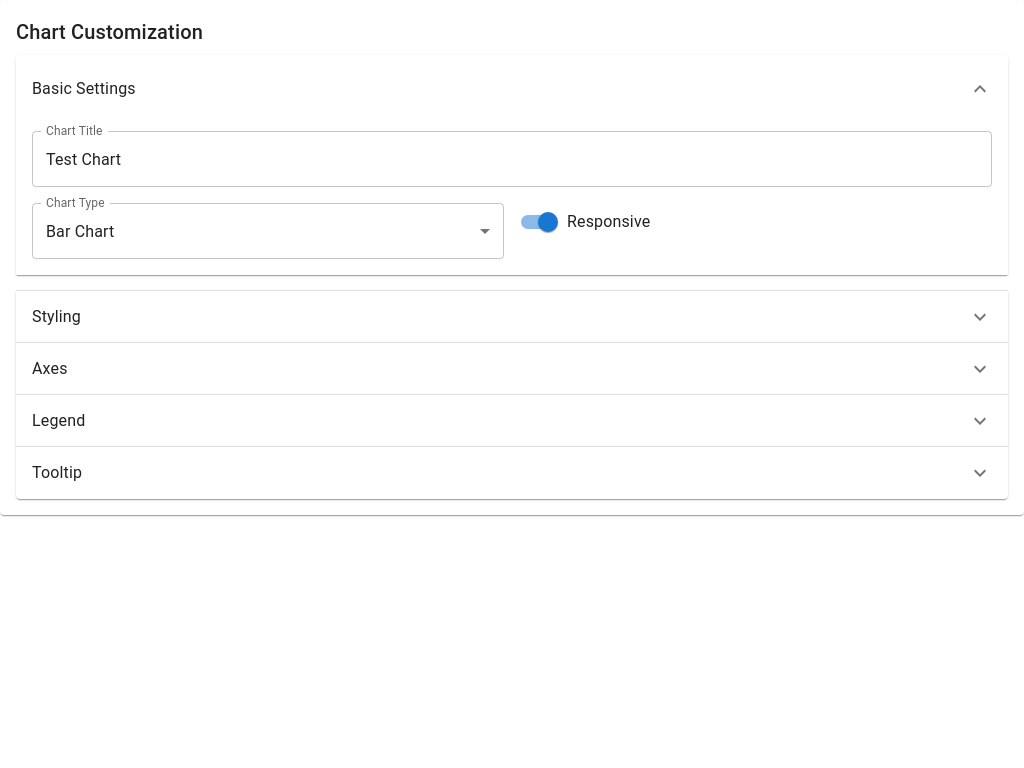
Scenario: ChartCustomizer Component › displays legend configuration options
This screenshot has width=1024, height=768.
# Expand legend section
Click the button "Legend" at (59, 420), box [32, 409, 992, 433]
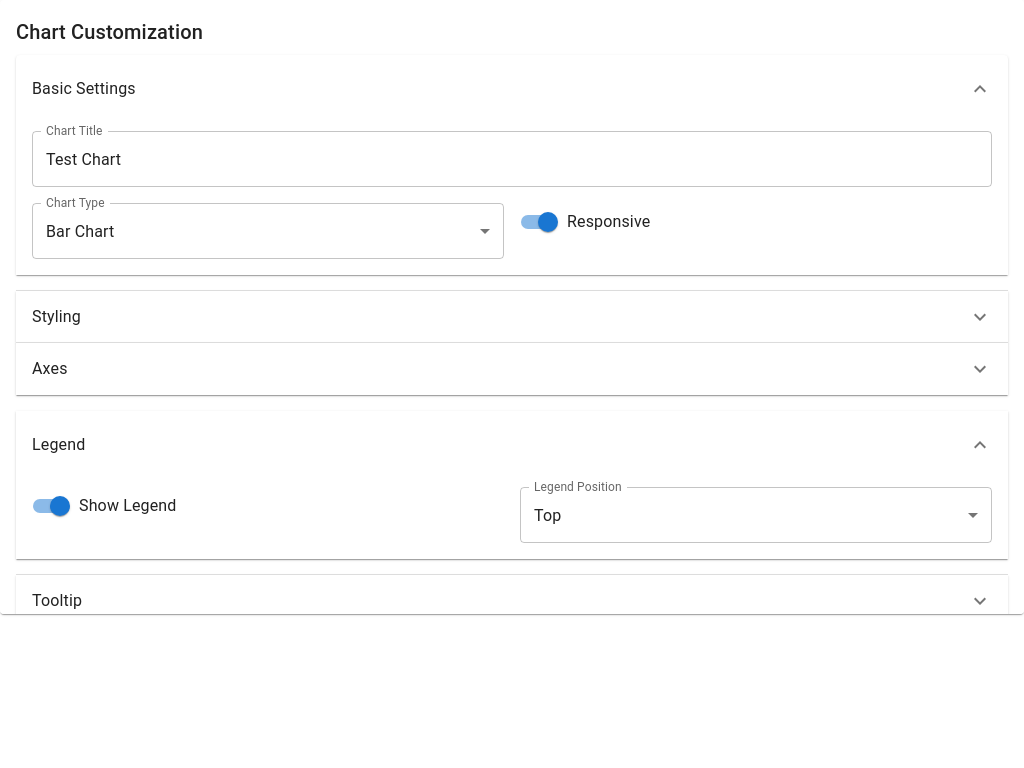
Now the checkbox labelled "Show Legend" is shown, box [33, 496, 176, 516]
